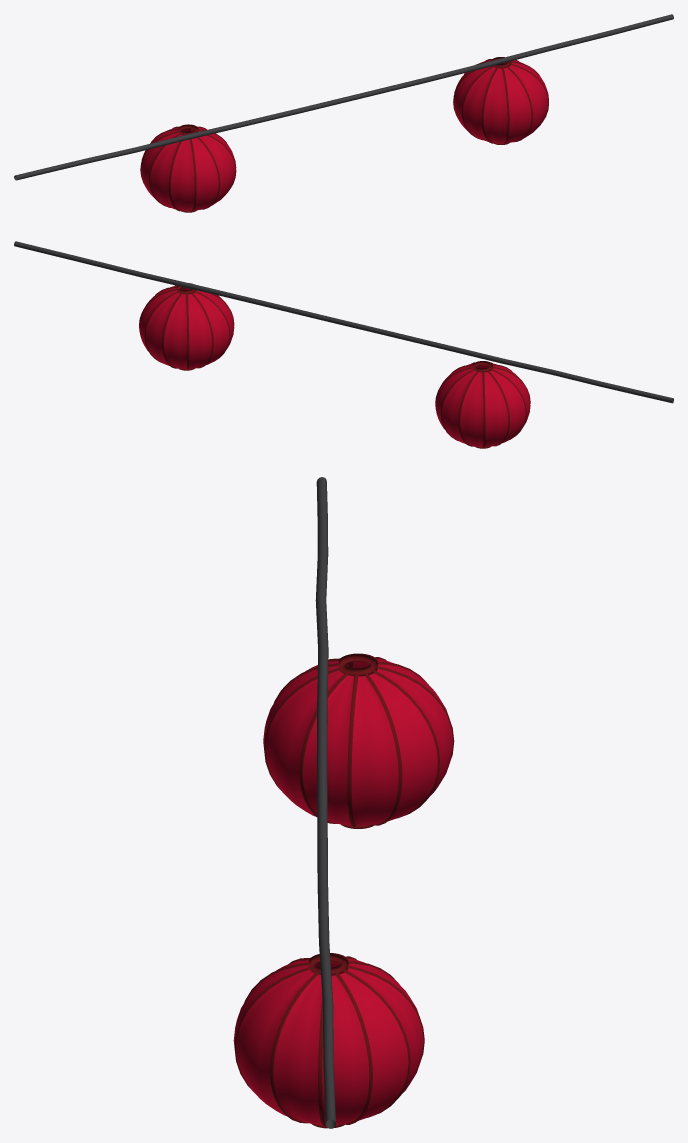
File: hanginglantern.fbx
3 views of the same model, one above another, from view 1: azimuth 30°, elevation 25°; view 2: azimuth 150°, elevation 25°; view 3: azimuth 270°, elevation 25° (orthographic). The views are drawn at different scales.
Parts seen in each view (by area): view 1: Sphere.001, Sphere, BezierCurve.001; view 2: Sphere, Sphere.001, BezierCurve.001; view 3: Sphere, Sphere.001, BezierCurve.001.
Part boxes in pixels (x1,y1,x2,y2): Sphere.001: (453,57,548,144); Sphere: (140,124,236,212); BezierCurve.001: (14,14,673,180); Sphere: (435,361,530,448); Sphere.001: (139,283,234,370); BezierCurve.001: (14,241,673,403); Sphere: (263,653,454,828); Sphere.001: (233,953,424,1128); BezierCurve.001: (315,477,335,1128).
Bounding box in the file's own units: 577 × 71.44 × 83.95.
